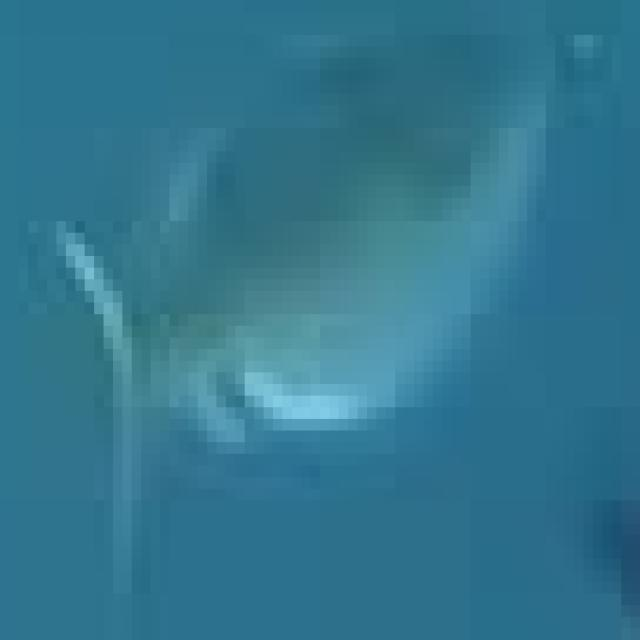fish: (1, 0, 631, 629)
